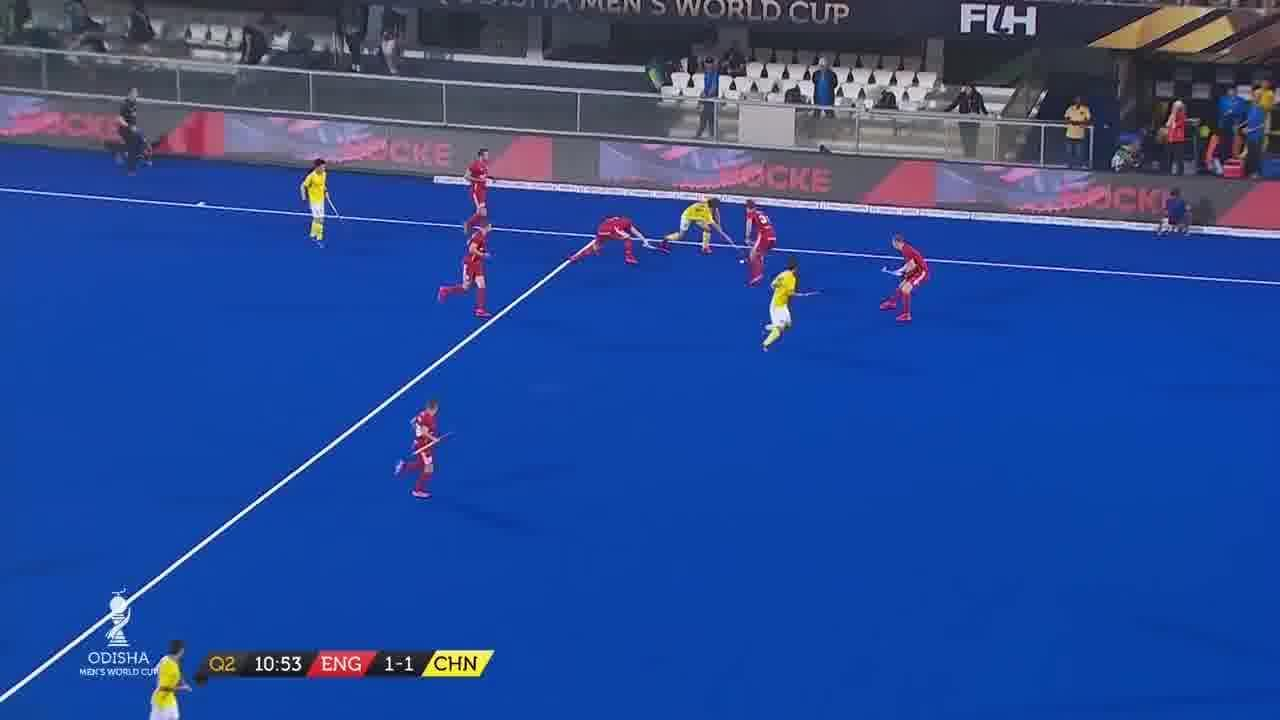ball: (738, 256, 748, 266)
